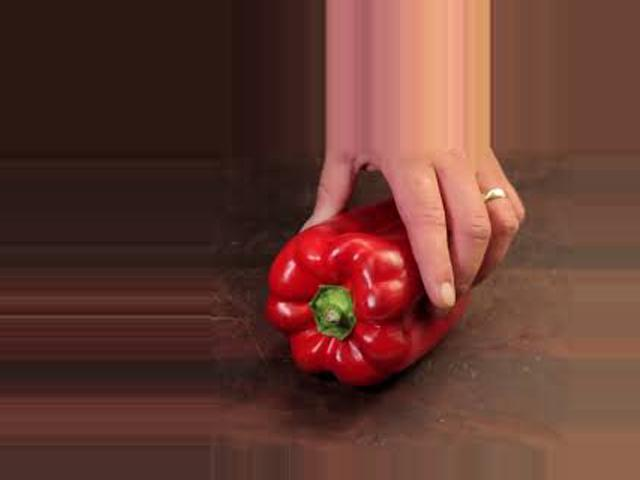bell_pepper: (260, 209, 448, 387)
